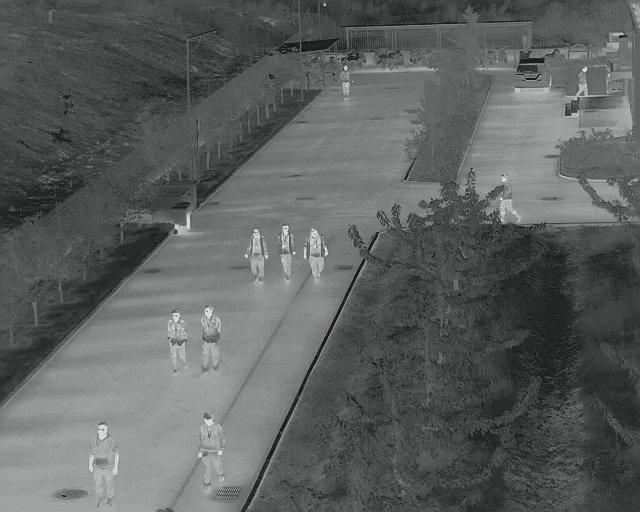person: (86, 421, 120, 506), (193, 410, 228, 491), (165, 307, 189, 376), (199, 304, 222, 376), (273, 223, 297, 286), (244, 229, 269, 287), (303, 224, 327, 283), (498, 170, 522, 224), (338, 65, 359, 101), (572, 64, 591, 99)
vehicle: (506, 56, 554, 98)
